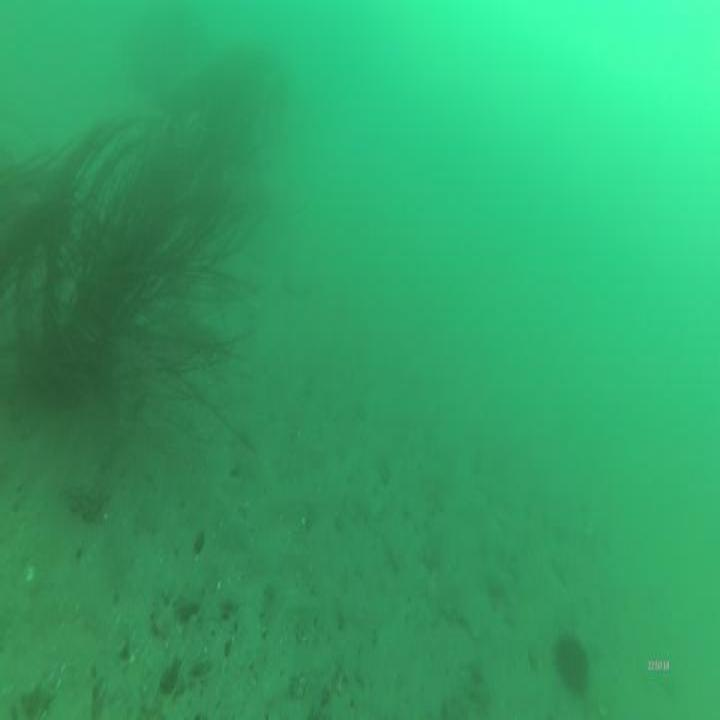echinus: (550, 628, 592, 701)
